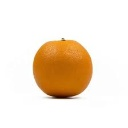orange: (32, 37, 93, 97)
